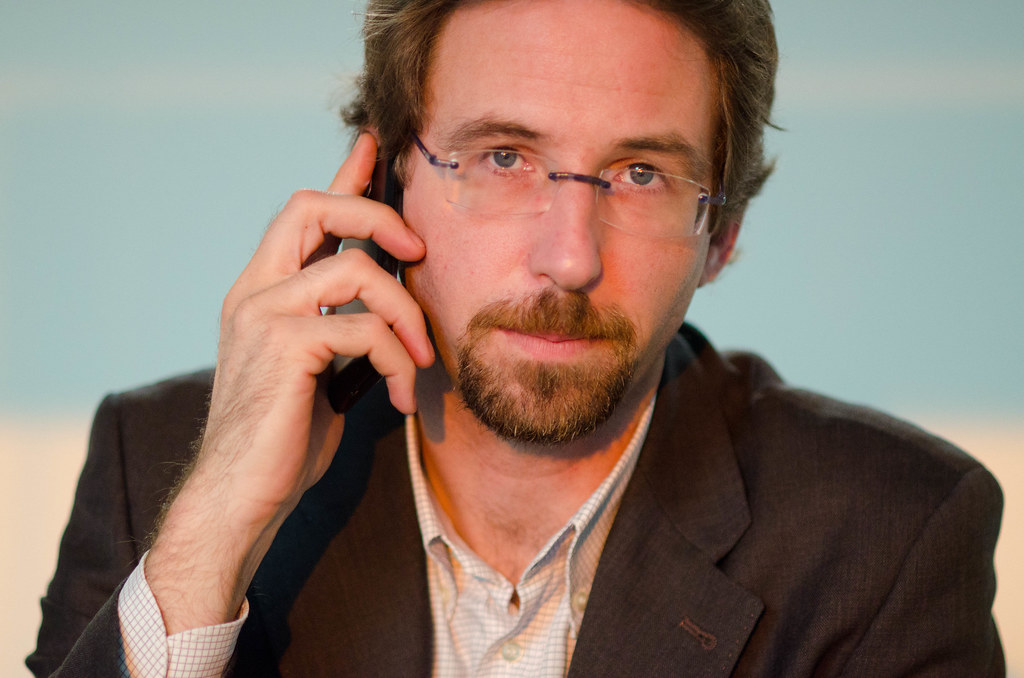phone: (296, 164, 434, 415)
talk: (211, 51, 701, 528)
